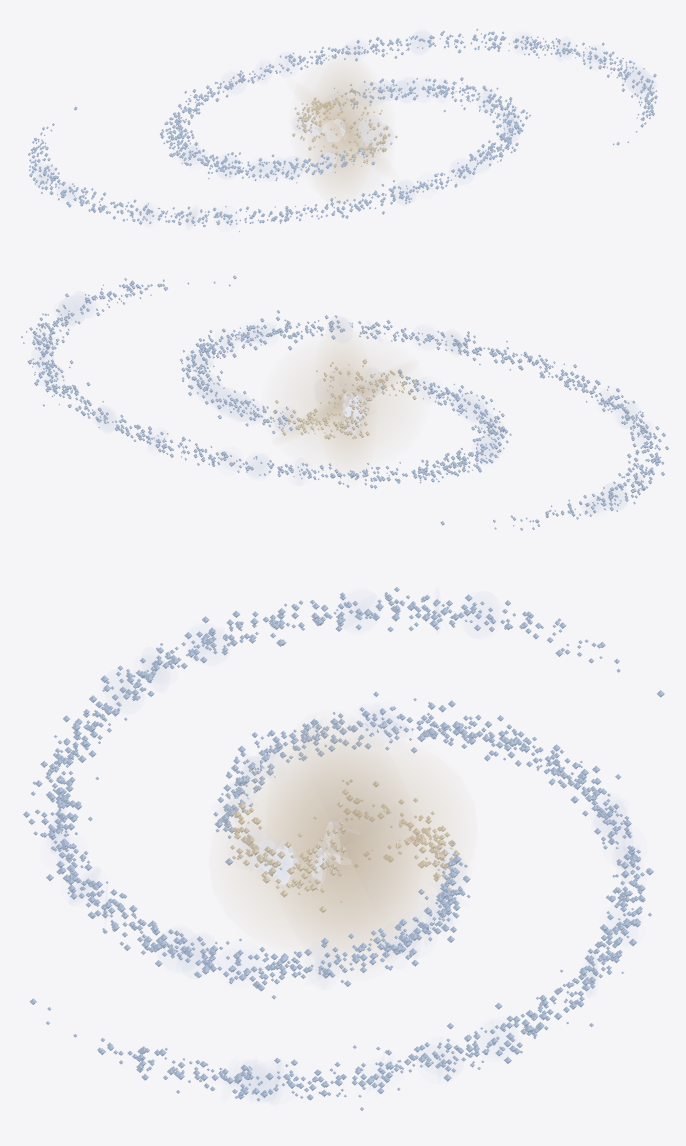
3 renders of one model, top to bottom at view 1: azimuth 30°, elevation 25°; view 2: azimuth 150°, elevation 25°; view 3: azimuth 270°, elevation 25°, orthographic. The views are drawn at different scales.
Size of the model in its own units: 7.28 by 1.78 by 3.95.
